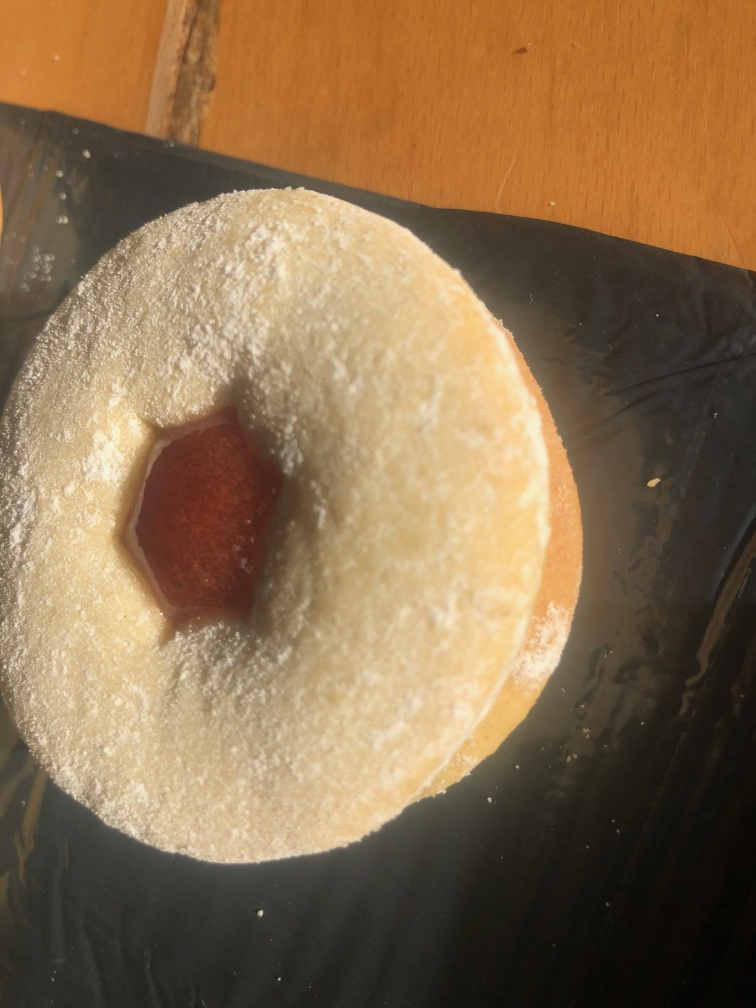christmas shortbread with jam: (9, 185, 583, 862)
